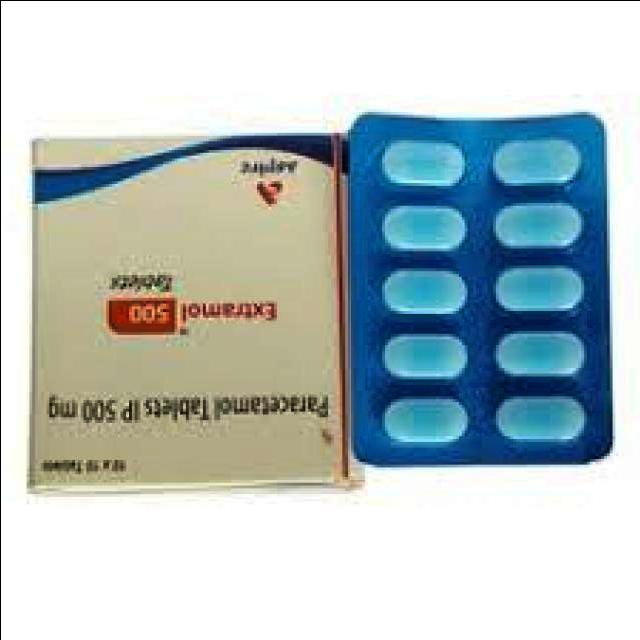authentic: (21, 126, 349, 496), (342, 95, 622, 479)
